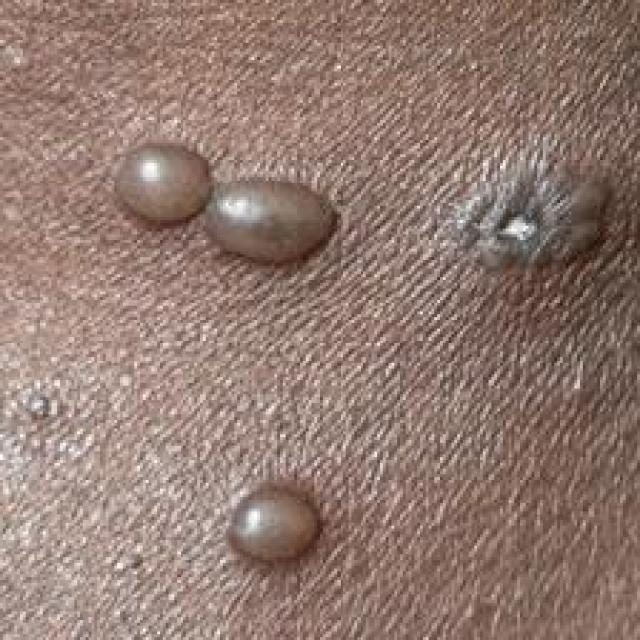others: (45, 18, 640, 640)
